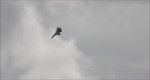maybay_muctieu: (51, 26, 63, 40)
